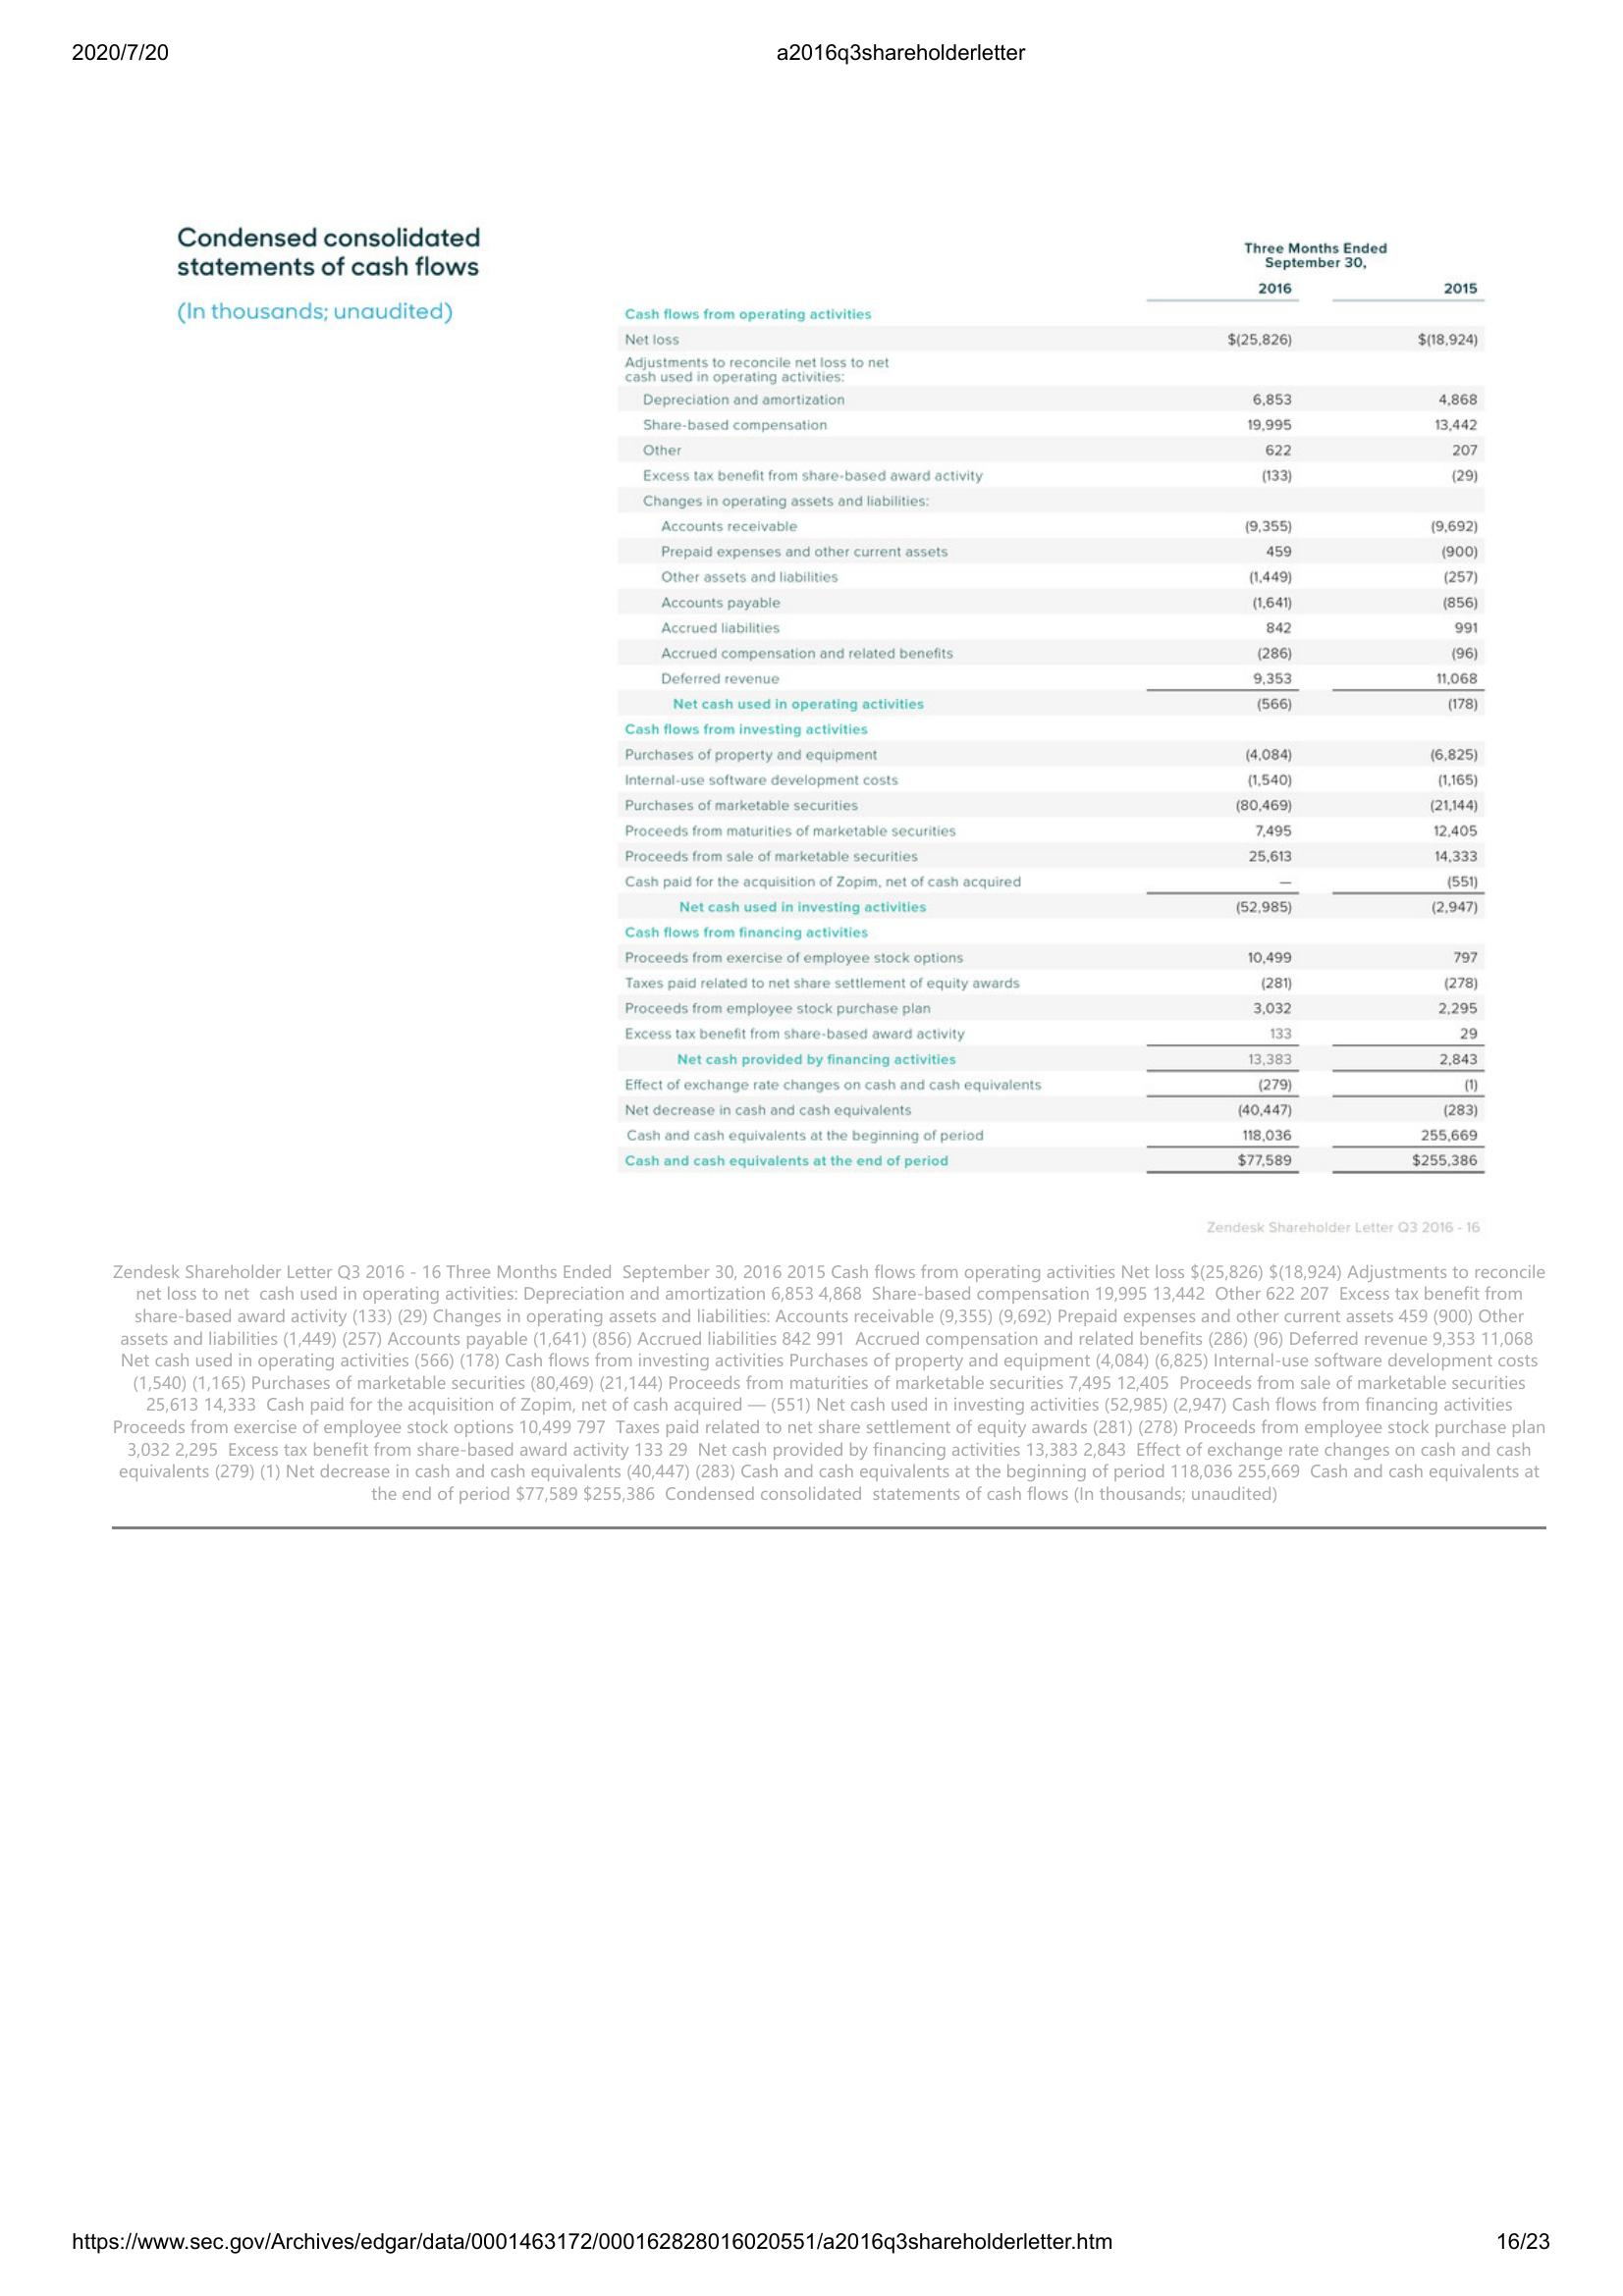table: (611, 237, 1498, 1180)
